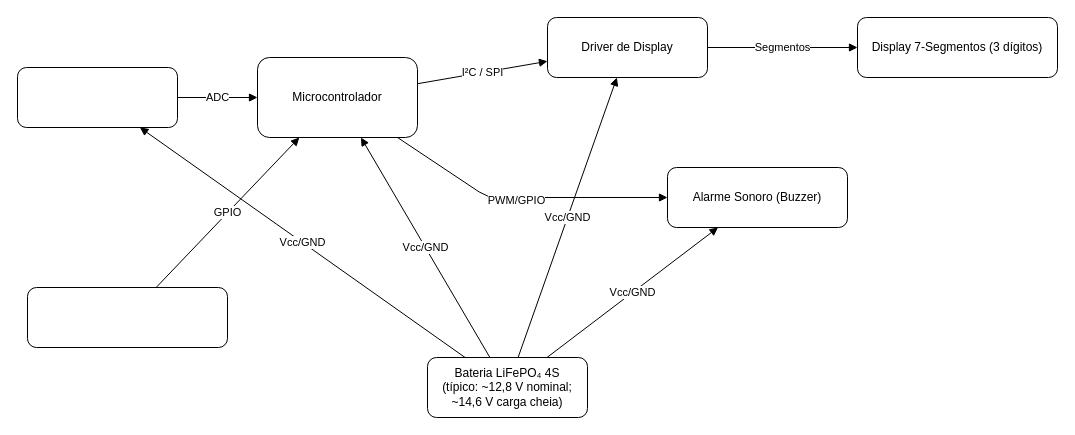
Image size: 1075x435. Some labels were removed from this diagram. Here are the shapes that lost their labels. From the top down, the centre of each, then its label:
(97,97): Sensor de Temperatura (faixa 0 °C a 100 °C)
(127,317): Interface de Configuração (Botão/Encoder)
